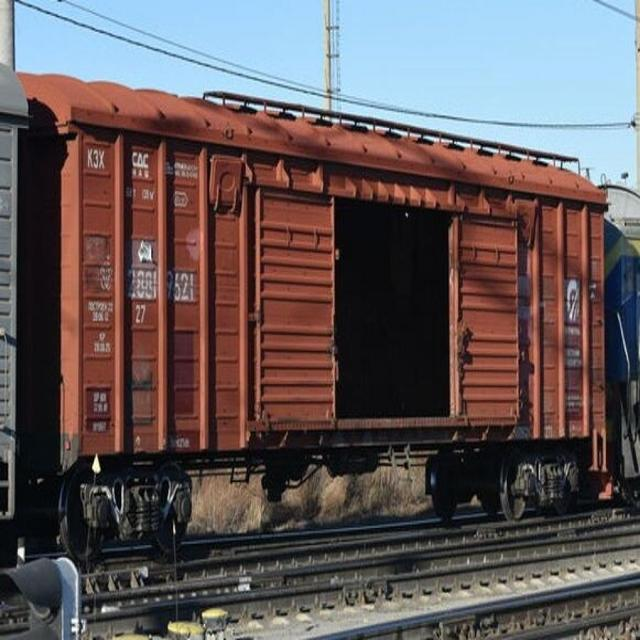boxcar: (21, 55, 619, 555)
